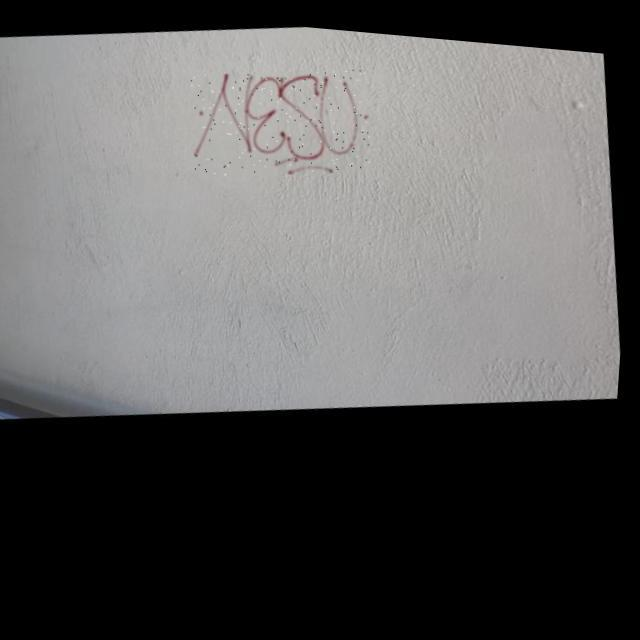-: (185, 50, 379, 186)
